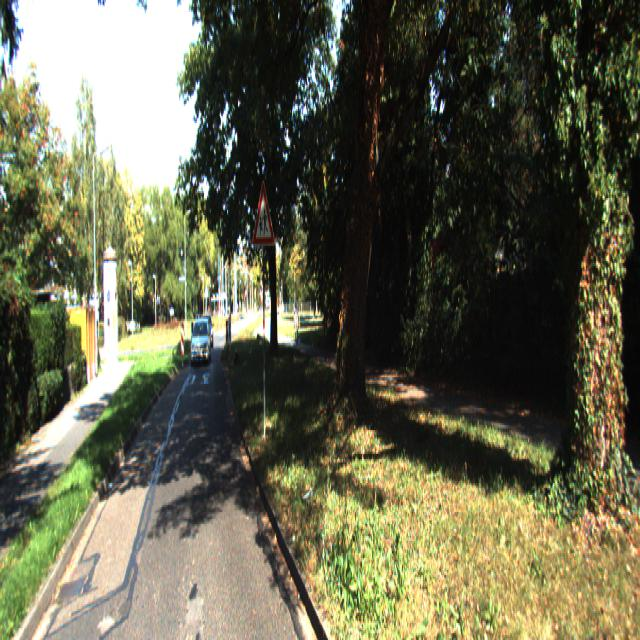Car: (190, 316, 209, 365)
